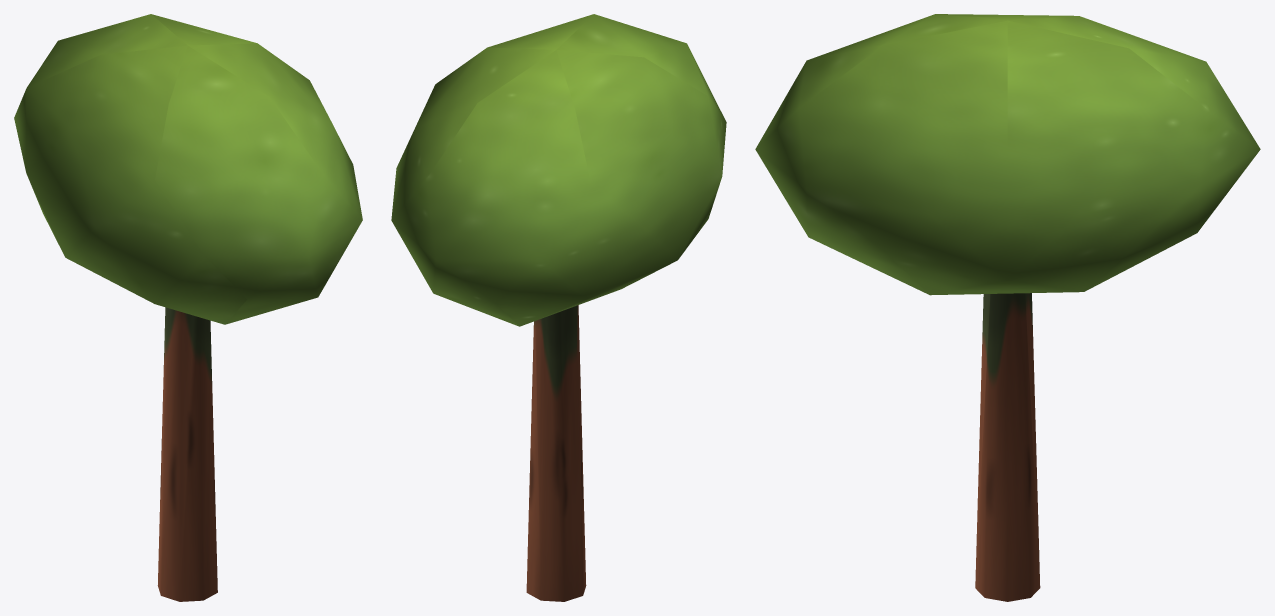
File: nature_leaf_tree.2.glb
3 renders of one model, left to right at view 1: azimuth 30°, elevation 25°; view 2: azimuth 150°, elevation 25°; view 3: azimuth 270°, elevation 25°, orthographic. The views are drawn at different scales.
Parts seen in each view (by area): view 1: nature_leaf_tree.2; view 2: nature_leaf_tree.2; view 3: nature_leaf_tree.2.
Boxes of the visible parts, box(x1,y1,x2,y2) form: nature_leaf_tree.2: box(14, 14, 362, 601); nature_leaf_tree.2: box(391, 14, 726, 601); nature_leaf_tree.2: box(755, 14, 1260, 601).
Size of the model in its own units: 0.6111 by 1.23 by 0.9925.
Materials: 1 (1 with a texture image).
